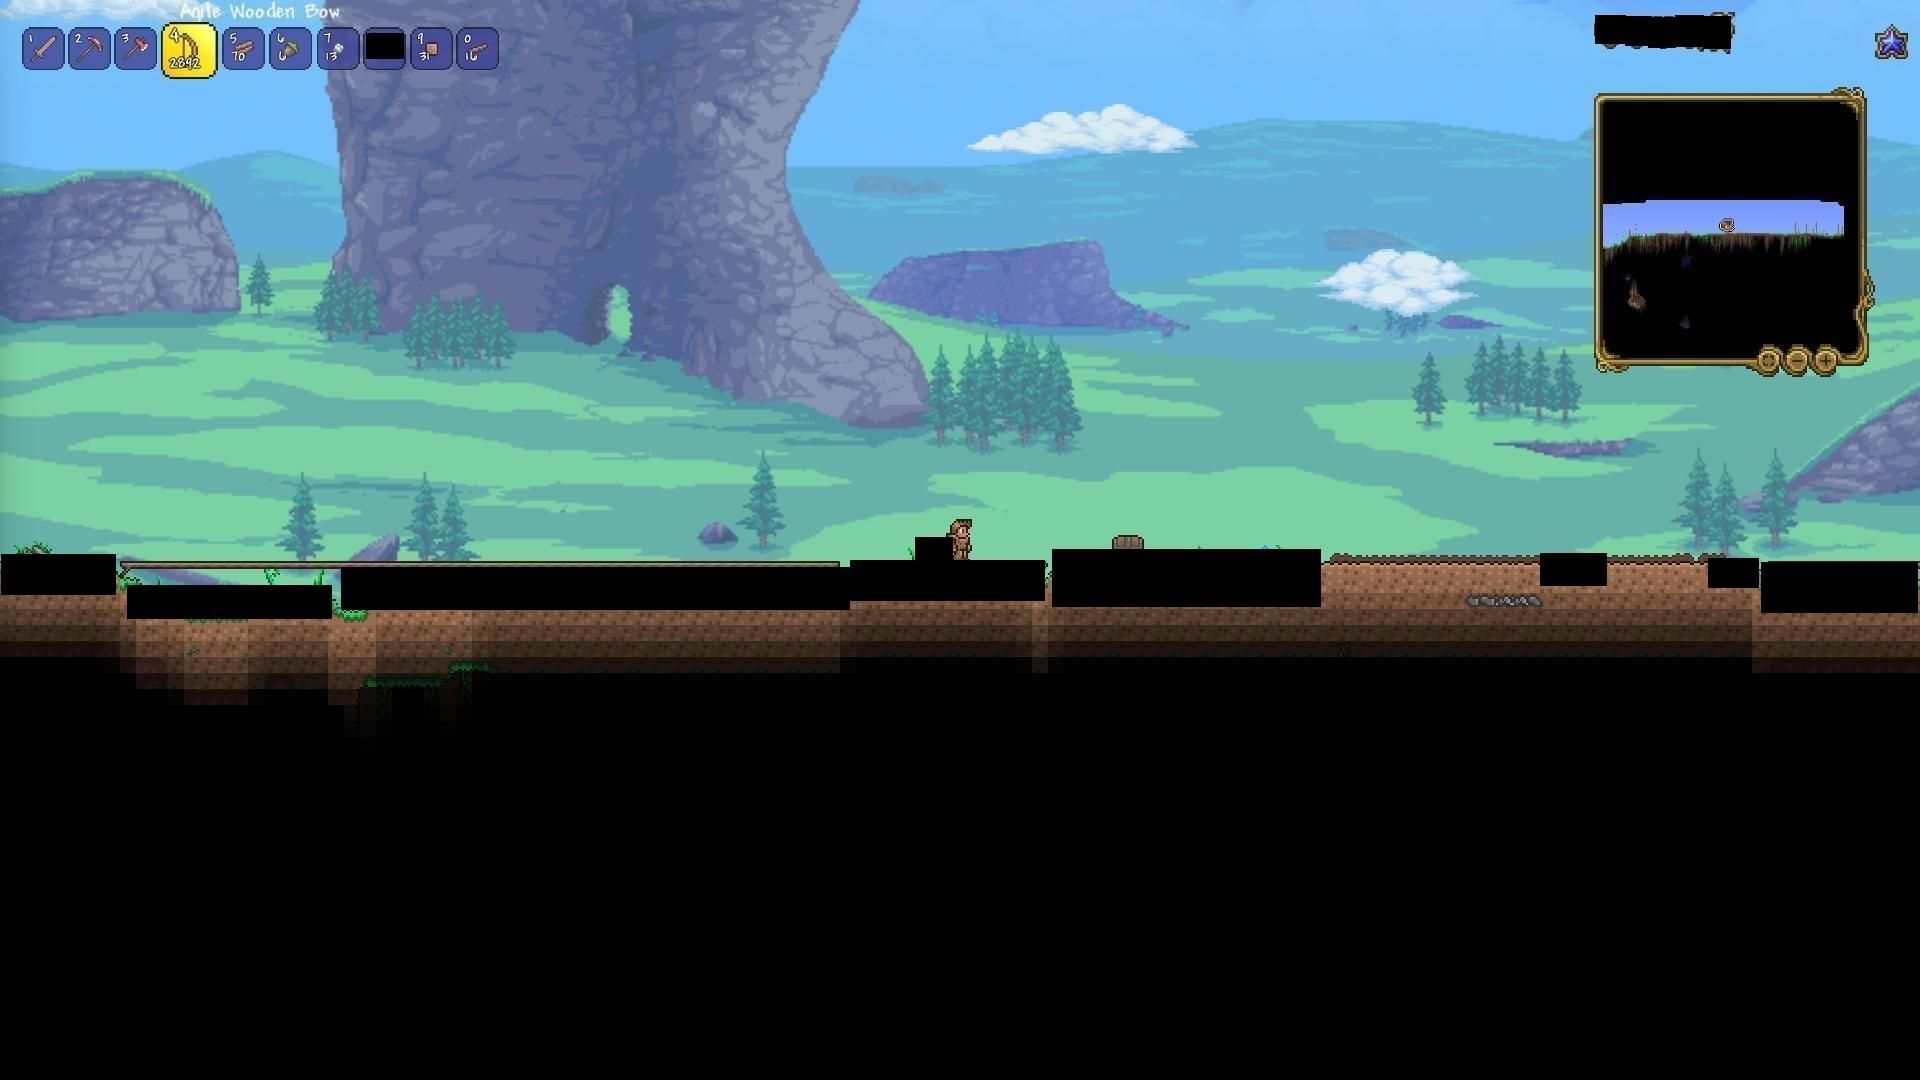wood: (227, 36, 256, 65)
